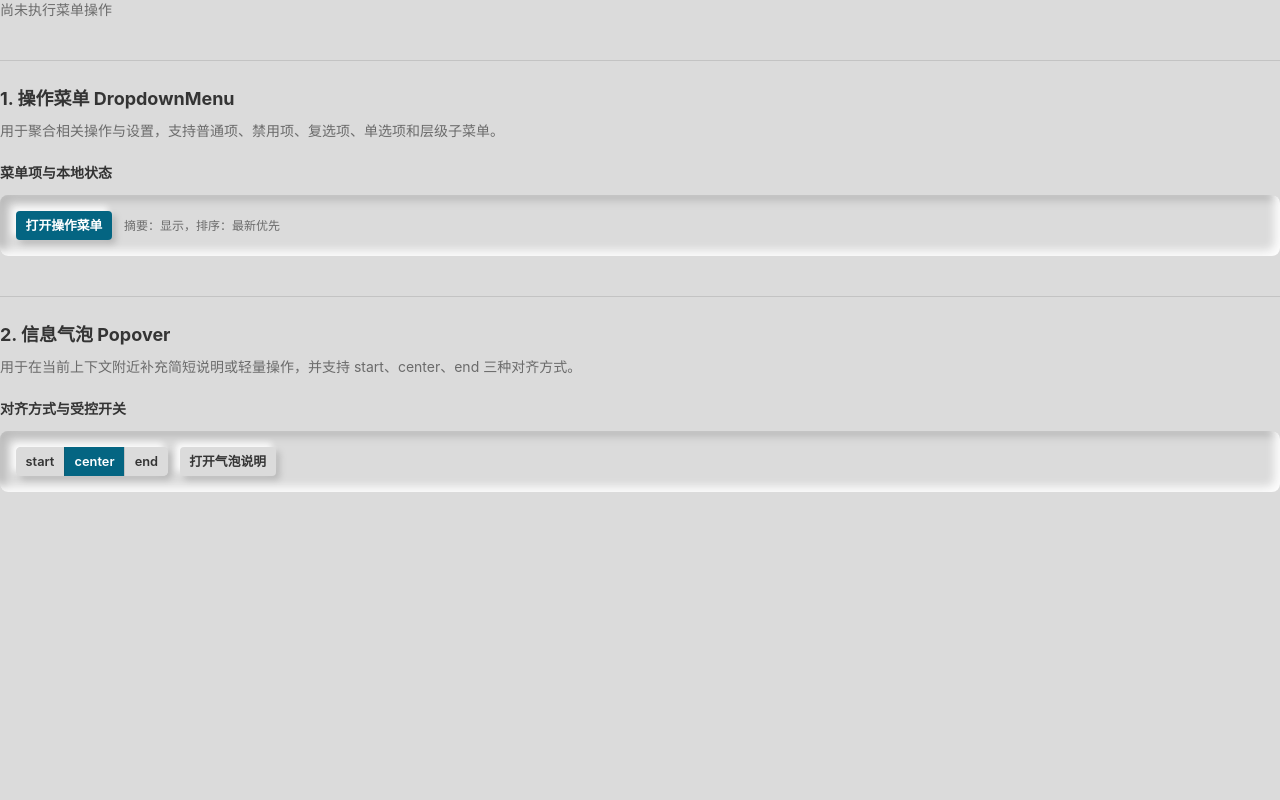
Scenario: MenuDemo › opens and closes the controlled popover
Click the button "start" at (40, 462), box [16,447,64,476]
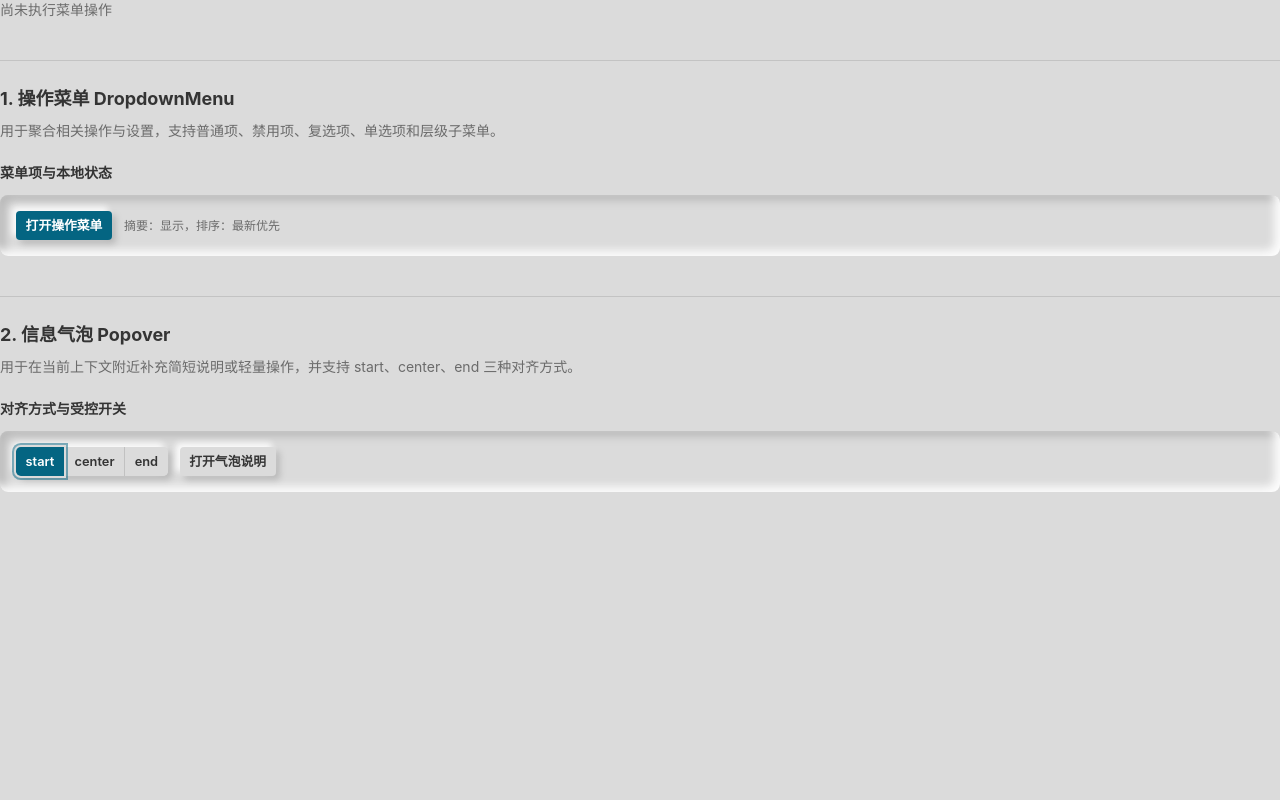
Click the button "打开气泡说明" at (228, 462), box [180,447,276,476]
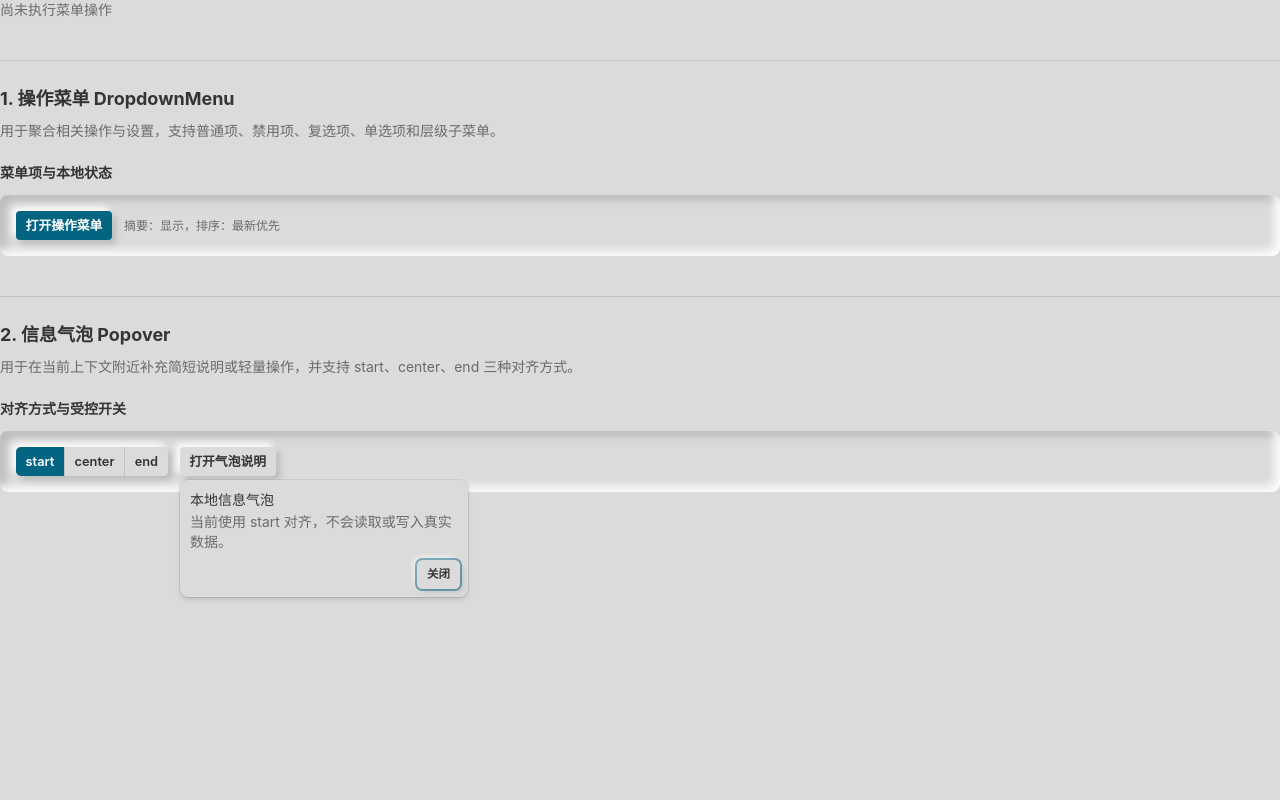
Result: the text "当前使用 start 对齐，不会读取或写入真实数据。" is shown at [190,512,458,552]
Click the button "关闭" at (438, 574), box [419,562,458,587]
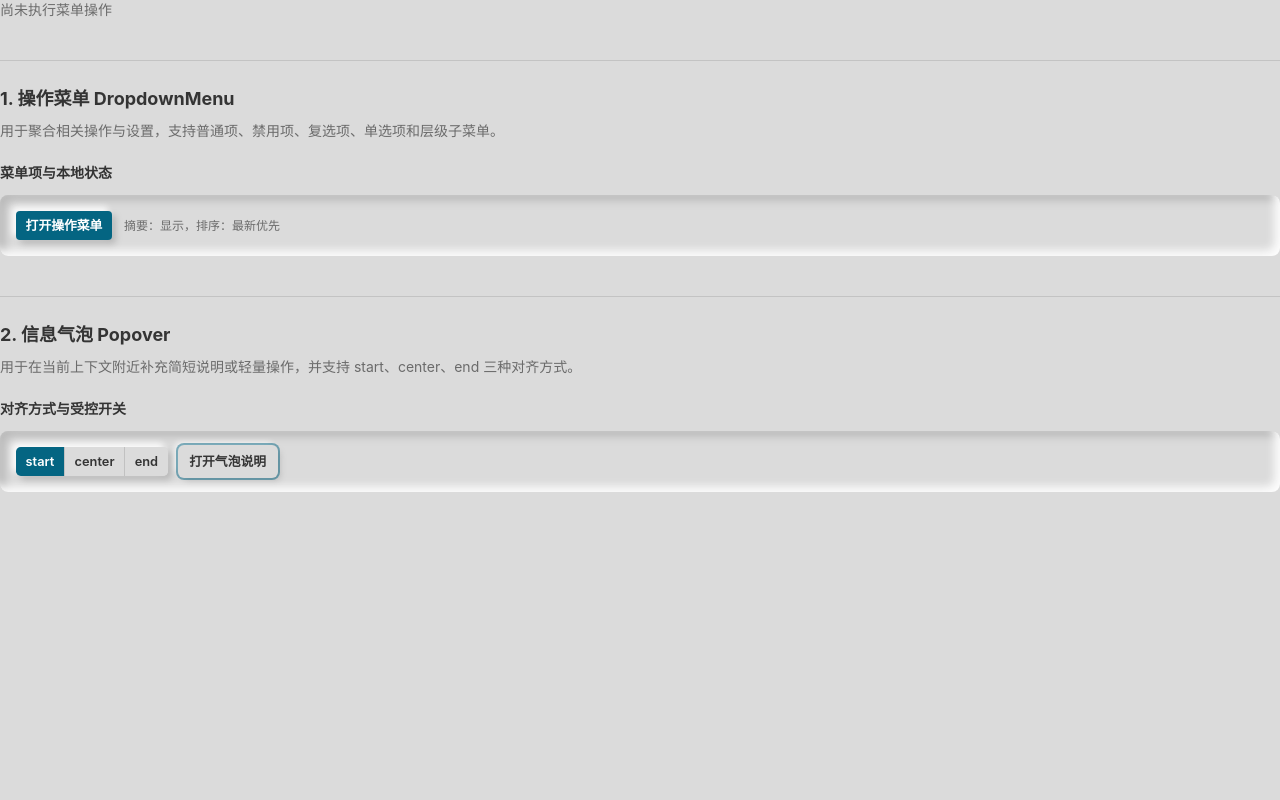
Result: the heading "本地信息气泡" is gone
